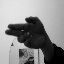h: (4, 16, 45, 47)
